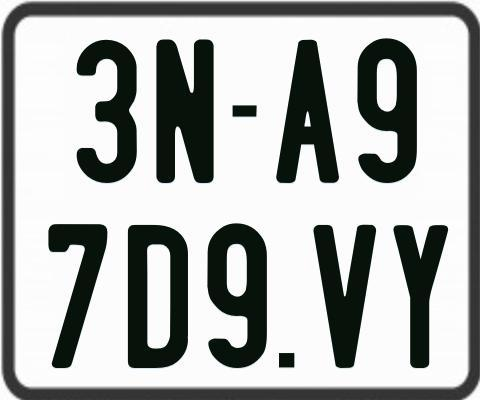3: (75, 37, 141, 182)
7: (45, 221, 108, 368)
9: (356, 36, 420, 181), (204, 223, 265, 372)
A: (273, 40, 337, 185)
D: (125, 223, 191, 366)
N: (156, 39, 217, 183)
V: (311, 224, 377, 368)
Y: (391, 223, 447, 368)
